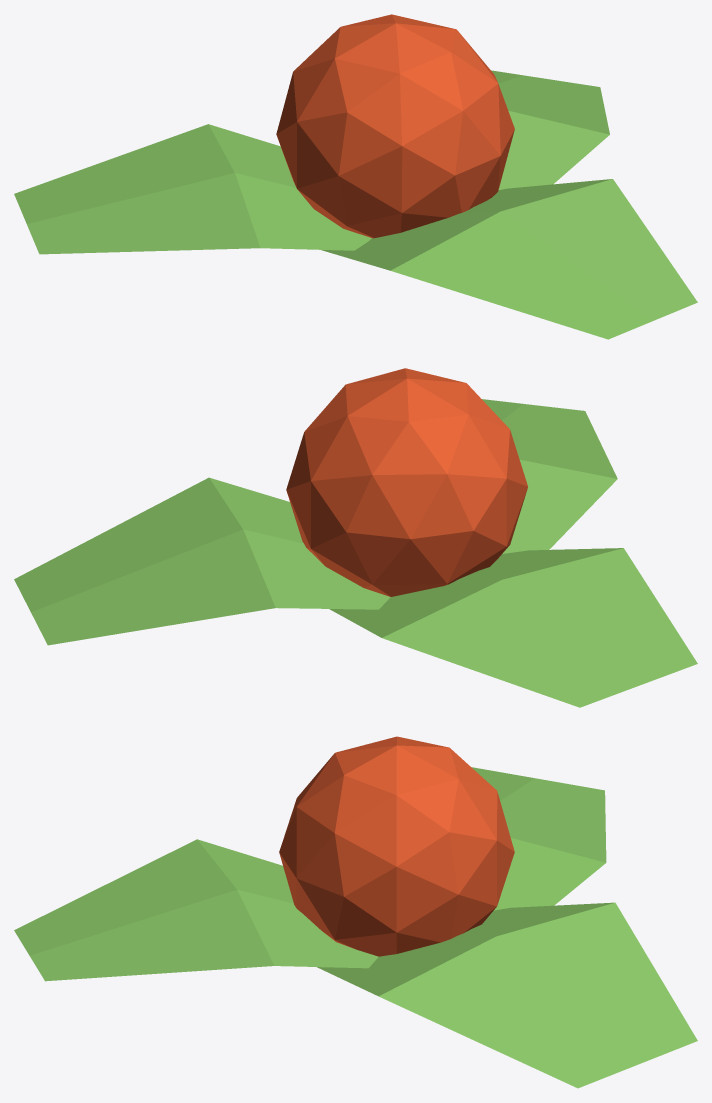
Rendered from Fruit.fbx.
3 views of the same model, one above another, from view 1: azimuth 30°, elevation 25°; view 2: azimuth 150°, elevation 25°; view 3: azimuth 270°, elevation 25° (orthographic). The views are drawn at different scales.
Visible parts, largest first — view 1: Fruit1; view 2: Fruit1; view 3: Fruit1.
Boxes of the visible parts, x1=… form: Fruit1: x1=14, y1=14, x2=697, y2=339; Fruit1: x1=14, y1=368, x2=697, y2=707; Fruit1: x1=14, y1=736, x2=697, y2=1088.
Size of the model in its own units: 2.38 by 0.7965 by 2.31.
